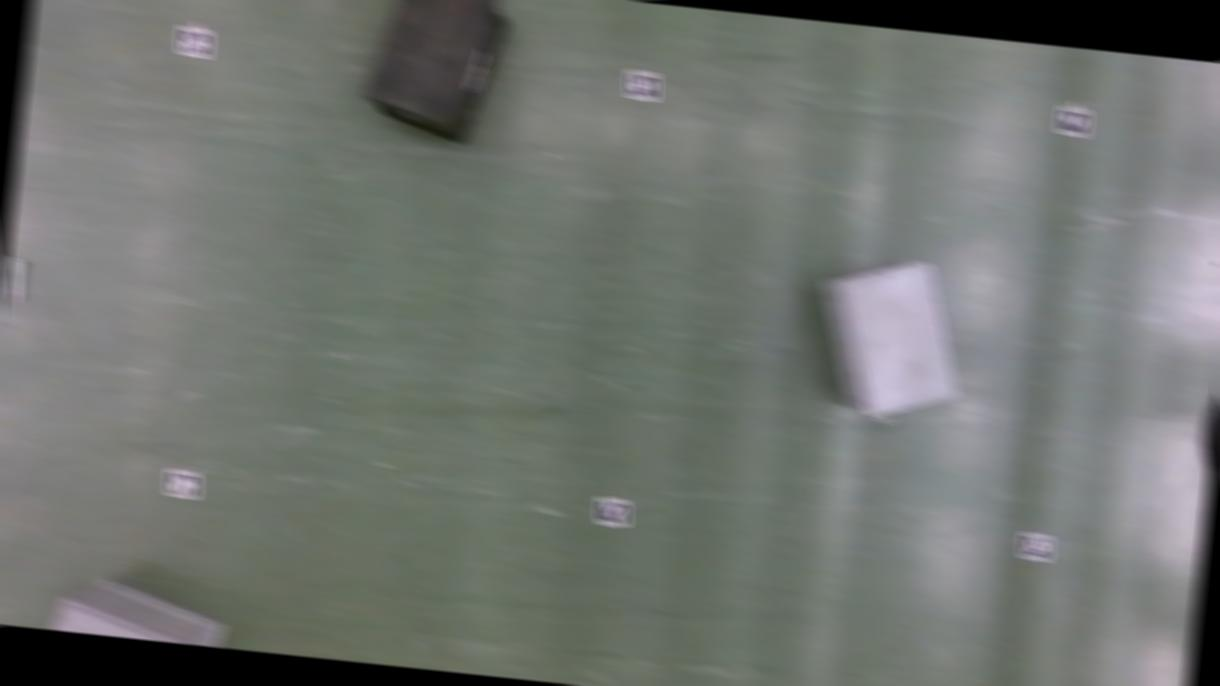probes: (6, 254, 26, 302), (1213, 259, 1220, 288)
rako: (806, 247, 969, 424), (357, 0, 511, 144), (38, 568, 230, 648)
